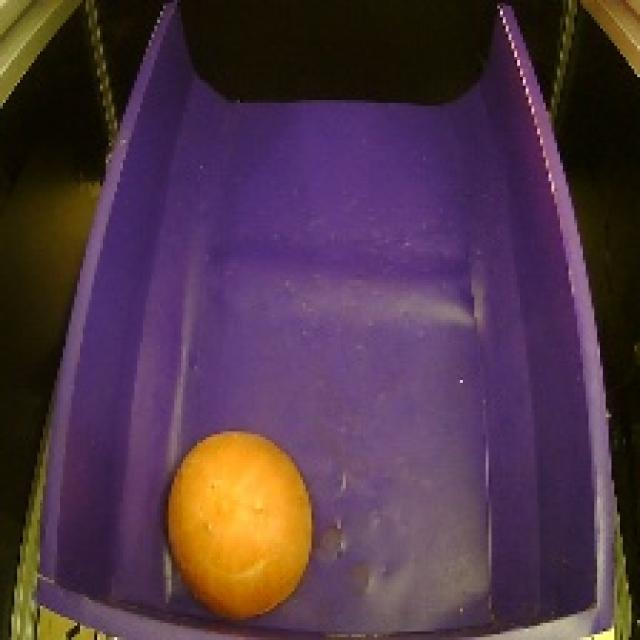carrots: (159, 417, 322, 620)
